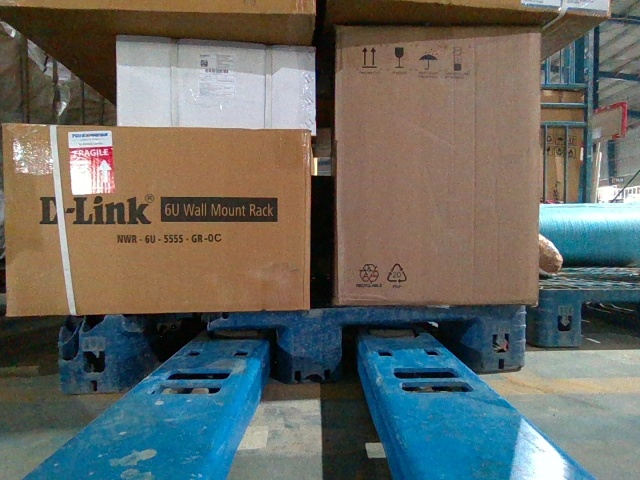block: (62, 313, 134, 396), (273, 308, 339, 380), (479, 306, 531, 373), (532, 288, 585, 349)
front: (63, 303, 527, 389)
hole pallet: (125, 320, 289, 393), (336, 313, 481, 378)
